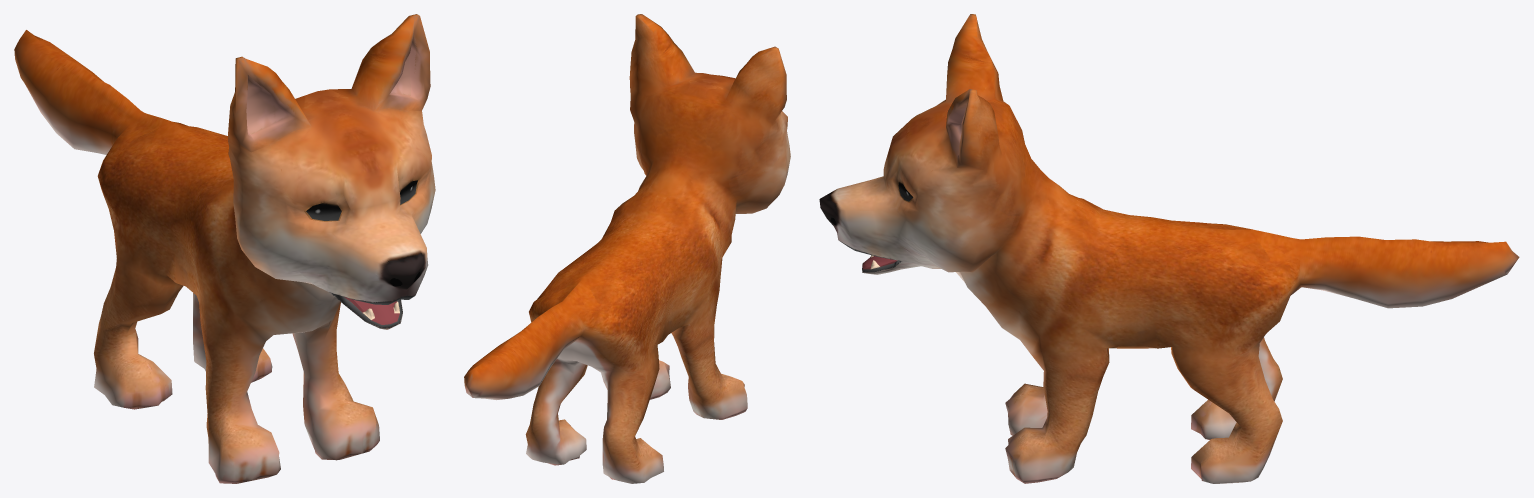
The model's file is pipi.glb.
The picture shows the model from 3 angles, left to right: view 1: azimuth 30°, elevation 25°; view 2: azimuth 150°, elevation 25°; view 3: azimuth 270°, elevation 25°; orthographic projection. The views are drawn at different scales.
Parts seen in each view (by area): view 1: Dog Model; view 2: Dog Model; view 3: Dog Model.
Boxes of the visible parts, x1,y1,x2,y2 form: Dog Model: (14,14,435,483); Dog Model: (464,14,790,483); Dog Model: (819,14,1519,483).
Bounding box in the file's own units: 0.9952 × 2.22 × 3.51.
1 material, 1 textured.
